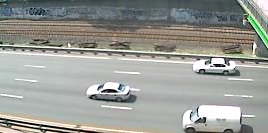car: (180, 100, 244, 133), (84, 80, 134, 103), (192, 56, 239, 76)
